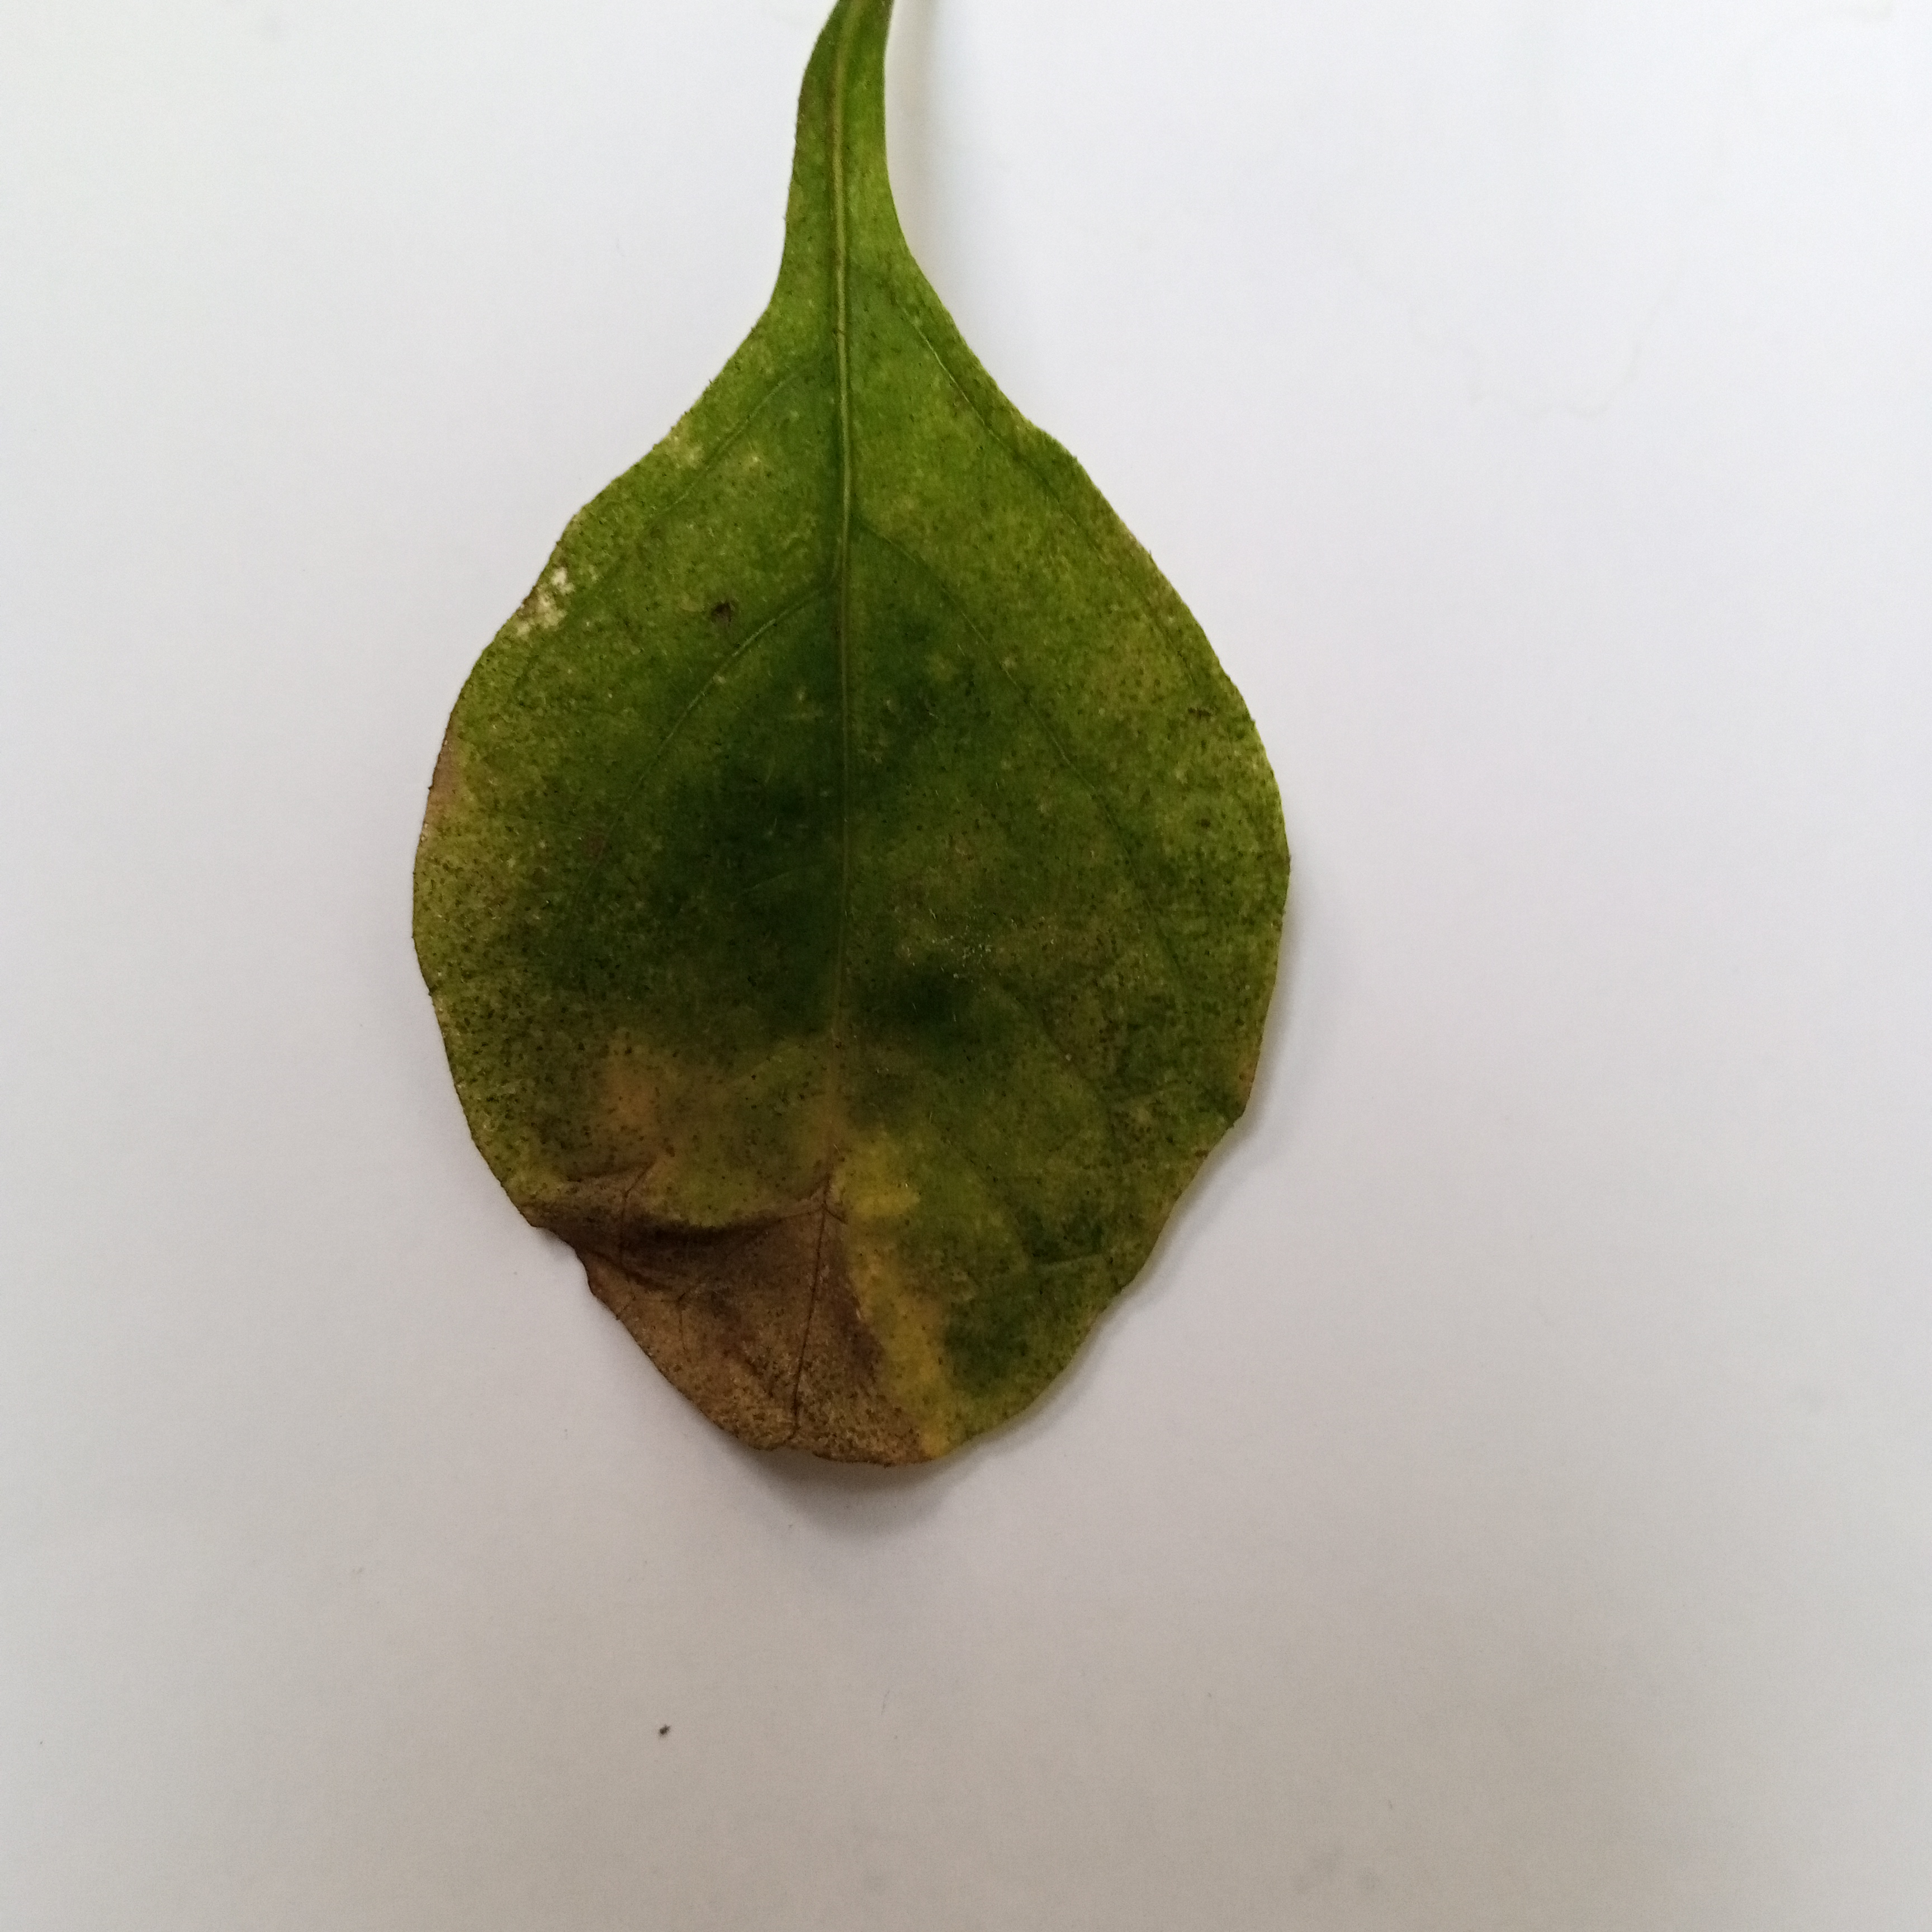Leaf: (239, 200, 1424, 1718)
